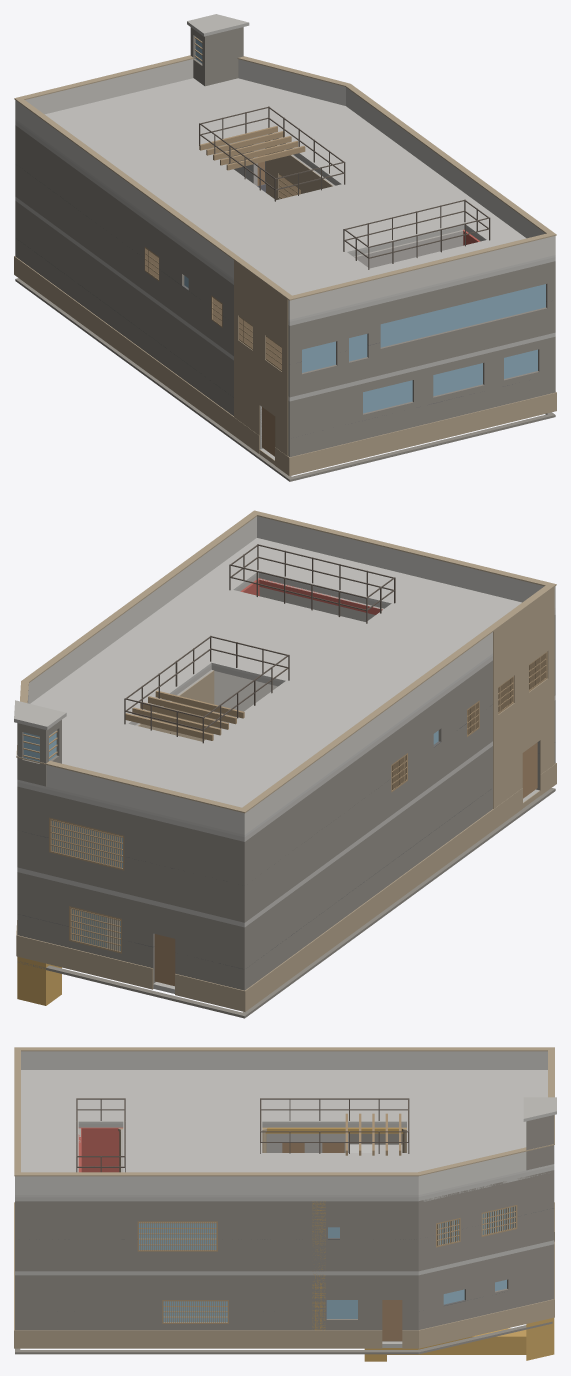
Rendered from taif_house_V6.3.glb.
The picture shows the model from 3 angles, top to bottom: view 1: azimuth 30°, elevation 25°; view 2: azimuth 150°, elevation 25°; view 3: azimuth 270°, elevation 25°; orthographic projection. The views are drawn at different scales.
Visible parts, largest first — view 1: roof_finish_floor, gf_outer, chr_base_plaster_roof_parapet, ff_outer, chr_base_stone_plinth, chr_base_stone_feature_wall_00, chr_base_stone_roof_coping, ff_outer_sill59, ff_glass_059, ff_outer_head59, chr_base_bronze_roof_railings, gf_air_outline (+17 smaller); view 2: roof_finish_floor, ff_outer, gf_outer, chr_base_plaster_roof_parapet, chr_base_stone_plinth, chr_base_stone_feature_wall_00, chr_base_stone_roof_coping, chr_base_bronze_roof_railings, gf_air_outline, roof_slab, chr_pergola_timber_beams, chr_base_timber_mashrabiya_00 (+17 smaller); view 3: roof_finish_floor, ff_outer, gf_outer, chr_base_plaster_roof_parapet, chr_base_stone_plinth, chr_base_stone_roof_coping, roof_slab, gf_air_outline, ff_slab, chr_base_bronze_roof_railings, ff_glass_058, chr_base_timber_mashrabiya_07 (+30 smaller).
Part boxes in pixels (x1,y1,x2,y2): roof_finish_floor: [15, 78, 555, 321]; gf_outer: [15, 201, 555, 457]; chr_base_plaster_roof_parapet: [15, 59, 555, 319]; ff_outer: [15, 125, 555, 397]; chr_base_stone_plinth: [14, 256, 556, 476]; chr_base_stone_feature_wall_00: [234, 260, 288, 465]; chr_base_stone_roof_coping: [14, 55, 556, 300]; ff_outer_sill59: [380, 307, 547, 374]; ff_glass_059: [380, 284, 545, 347]; ff_outer_head59: [380, 263, 547, 323]; chr_base_bronze_roof_railings: [199, 106, 490, 269]; gf_air_outline: [15, 278, 555, 481]; roof_finish_floor: [17, 538, 555, 837]; ff_outer: [17, 615, 555, 922]; gf_outer: [17, 700, 555, 990]; chr_base_plaster_roof_parapet: [27, 516, 555, 834]; chr_base_stone_plinth: [16, 763, 556, 1011]; chr_base_stone_feature_wall_00: [493, 587, 554, 808]; chr_base_stone_roof_coping: [16, 510, 556, 813]; chr_base_bronze_roof_railings: [124, 544, 395, 743]; gf_air_outline: [17, 788, 555, 1018]; roof_slab: [17, 573, 555, 841]; chr_pergola_timber_beams: [125, 690, 244, 740]; chr_base_timber_mashrabiya_00: [49, 817, 124, 870]; roof_finish_floor: [15, 1070, 554, 1197]; ff_outer: [15, 1133, 554, 1271]; gf_outer: [15, 1244, 554, 1330]; chr_base_plaster_roof_parapet: [15, 1051, 547, 1194]; chr_base_stone_plinth: [14, 1202, 554, 1348]; chr_base_stone_roof_coping: [14, 1047, 554, 1176]; roof_slab: [15, 1123, 554, 1201]; gf_air_outline: [15, 1321, 552, 1354]; ff_slab: [15, 1240, 554, 1275]; chr_base_bronze_roof_railings: [76, 1098, 409, 1172]; ff_glass_058: [139, 1223, 216, 1249]; chr_base_timber_mashrabiya_07: [137, 1221, 217, 1251].
Size of the model in its own units: 13.64 by 12.19 by 24.42.
